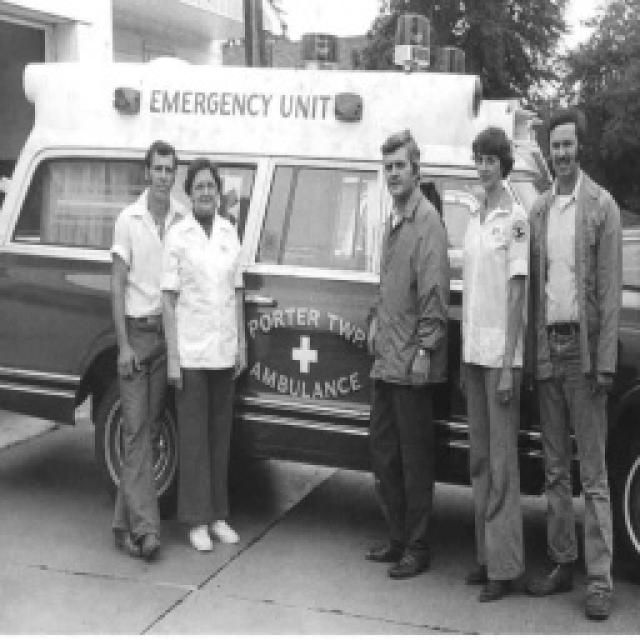emergency-vehicle: (0, 61, 640, 558)
